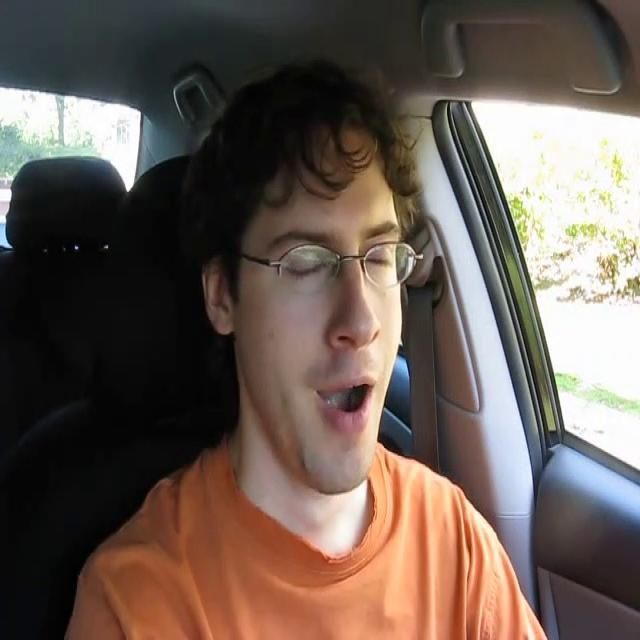yawn: (314, 373, 380, 432)
